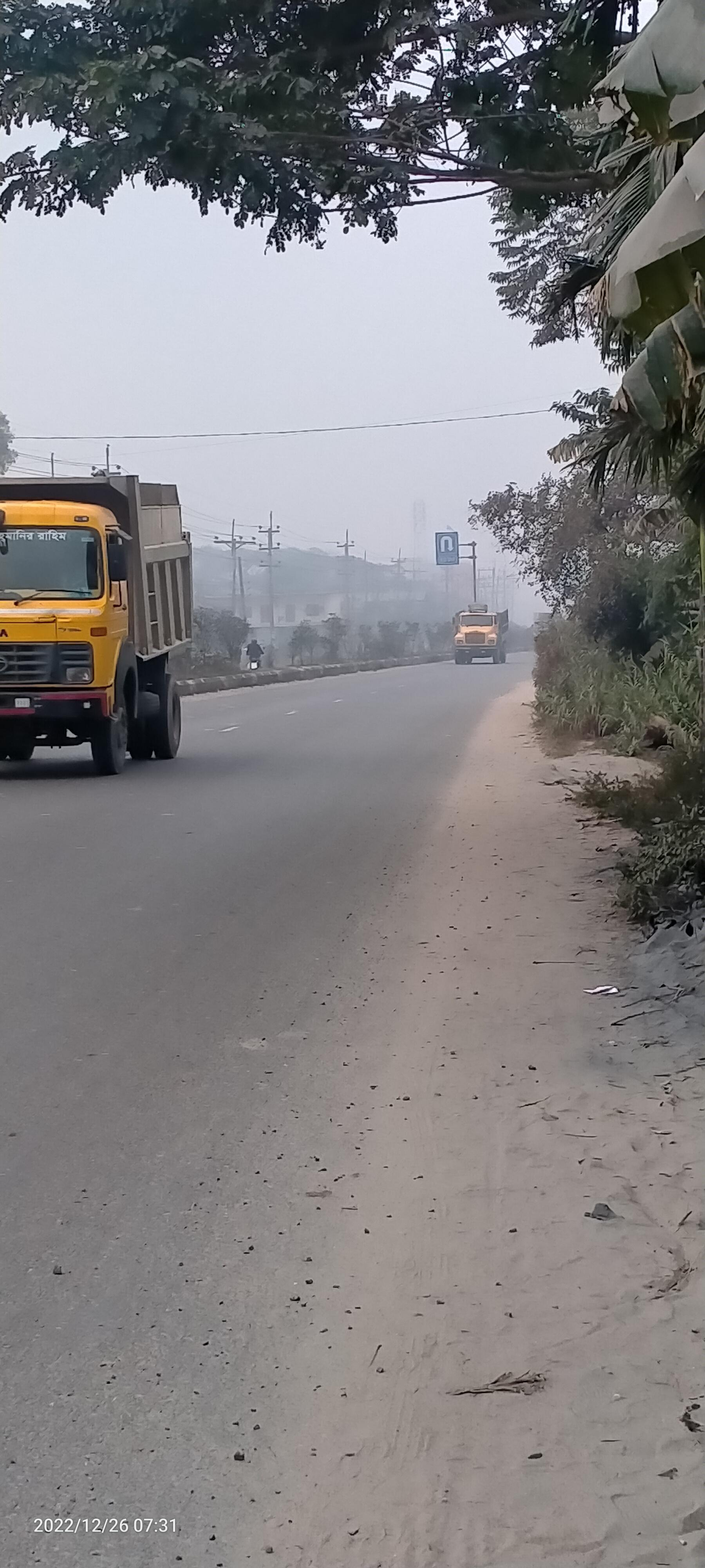Bike: (242, 633, 268, 679)
Truck: (2, 453, 191, 780), (452, 597, 510, 671)
